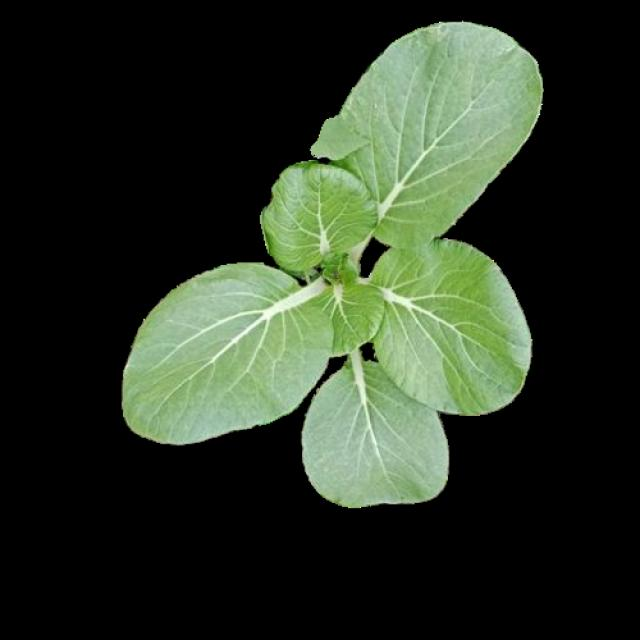healthy: (118, 21, 541, 506)
not-mature: (120, 23, 544, 508)
